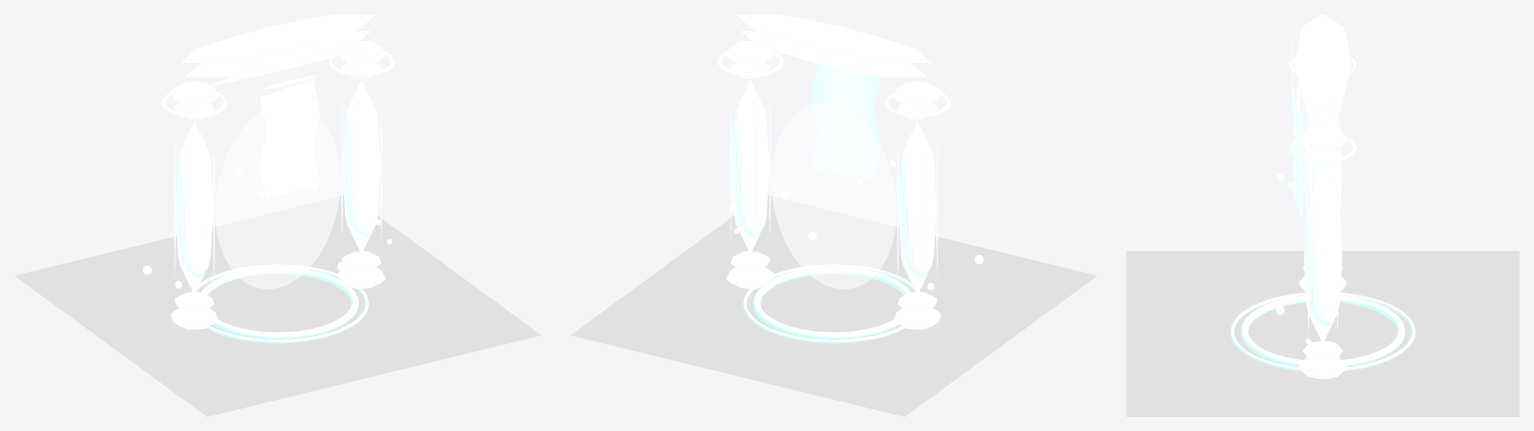
Rendered from entrance_server_r2_v3.glb.
3 views of the same model, side by side, from view 1: azimuth 30°, elevation 25°; view 2: azimuth 150°, elevation 25°; view 3: azimuth 270°, elevation 25° (orthographic).
Visible parts, largest first — view 1: server_floor, server_portal, server_banner, server_p0_s, server_p1_s, server_lintel_top, server_lintel, server_ring, server_ring2, server_lintel_trim, server_p0_c2, server_p0_b1 (+4 smaller); view 2: server_floor, server_portal, server_banner, server_p0_s, server_p1_s, server_lintel_top, server_lintel, server_ring, server_ring2, server_p0_c2, server_p1_c2, server_p0_b1 (+3 smaller); view 3: server_floor, server_p1_s, server_lintel_top, server_ring, server_ring2, server_p0_s, server_banner, server_p1_c2, server_p1_b1, server_p1_b2, server_lintel, server_p1_tr (+1 smaller).
Boxes of the visible parts, x1,y1,x2,y2 form: server_floor: [15, 195, 541, 416]; server_portal: [215, 111, 340, 289]; server_banner: [260, 79, 319, 199]; server_p0_s: [175, 121, 213, 294]; server_p1_s: [342, 80, 380, 253]; server_lintel_top: [181, 14, 374, 63]; server_lintel: [184, 31, 371, 77]; server_ring: [201, 267, 358, 339]; server_ring2: [191, 264, 368, 343]; server_lintel_trim: [206, 44, 378, 86]; server_p0_c2: [170, 81, 218, 106]; server_p0_b1: [170, 308, 218, 329]; server_floor: [570, 195, 1096, 416]; server_portal: [771, 103, 896, 289]; server_banner: [811, 64, 880, 178]; server_p0_s: [898, 121, 936, 294]; server_p1_s: [731, 80, 769, 253]; server_lintel_top: [737, 14, 930, 63]; server_lintel: [740, 31, 927, 77]; server_ring: [753, 267, 910, 339]; server_ring2: [743, 264, 920, 343]; server_p0_c2: [893, 81, 941, 106]; server_p1_c2: [726, 40, 773, 65]; server_p0_b1: [893, 308, 941, 329]; server_floor: [1126, 251, 1519, 416]; server_p1_s: [1303, 167, 1342, 343]; server_lintel_top: [1294, 14, 1351, 110]; server_ring: [1240, 295, 1405, 366]; server_ring2: [1230, 292, 1415, 371]; server_p0_s: [1303, 115, 1342, 210]; server_banner: [1293, 89, 1302, 220]; server_p1_c2: [1298, 126, 1347, 152]; server_p1_b1: [1298, 357, 1347, 379]; server_p1_b2: [1303, 341, 1342, 361]; server_lintel: [1302, 98, 1343, 124]; server_p1_tr: [1289, 137, 1356, 163].
Bounding box in the file's own units: 8 × 6.25 × 8.
